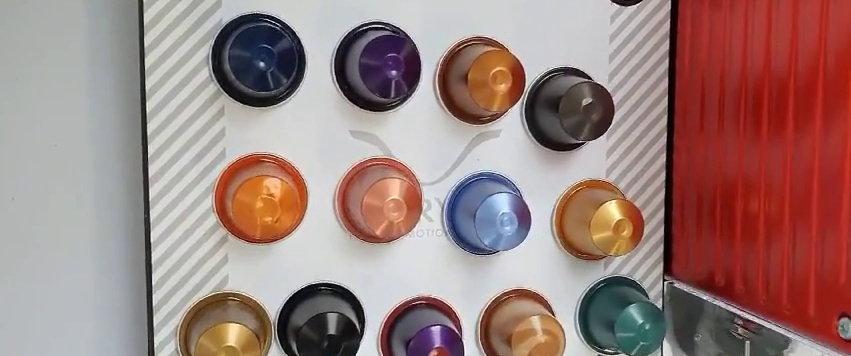capsule_1: (207, 13, 309, 111)
capsule_10: (270, 280, 366, 356)
capsule_11: (375, 292, 469, 356)
capsule_12: (474, 285, 567, 356)
capsule_13: (574, 273, 664, 356)
capsule_2: (329, 18, 424, 111)
capsule_3: (436, 33, 526, 124)
capsule_4: (521, 61, 617, 154)
capsule_5: (211, 150, 310, 244)
capsule_6: (334, 153, 426, 245)
capsule_7: (445, 168, 533, 257)
capsule_8: (551, 178, 645, 265)
capsule_9: (174, 291, 274, 356)
